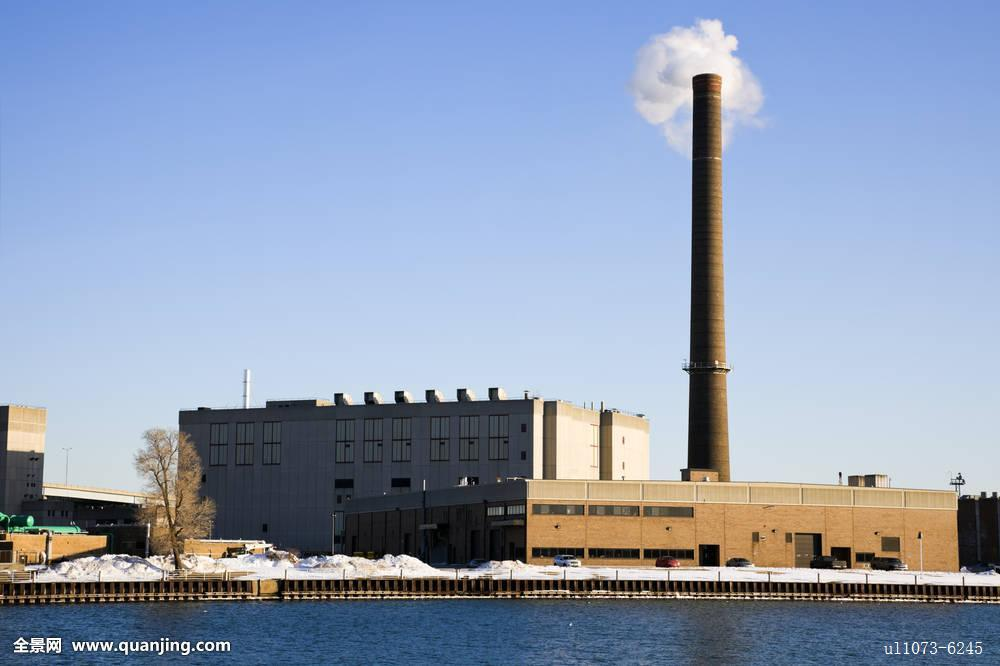dust: (603, 11, 795, 159)
